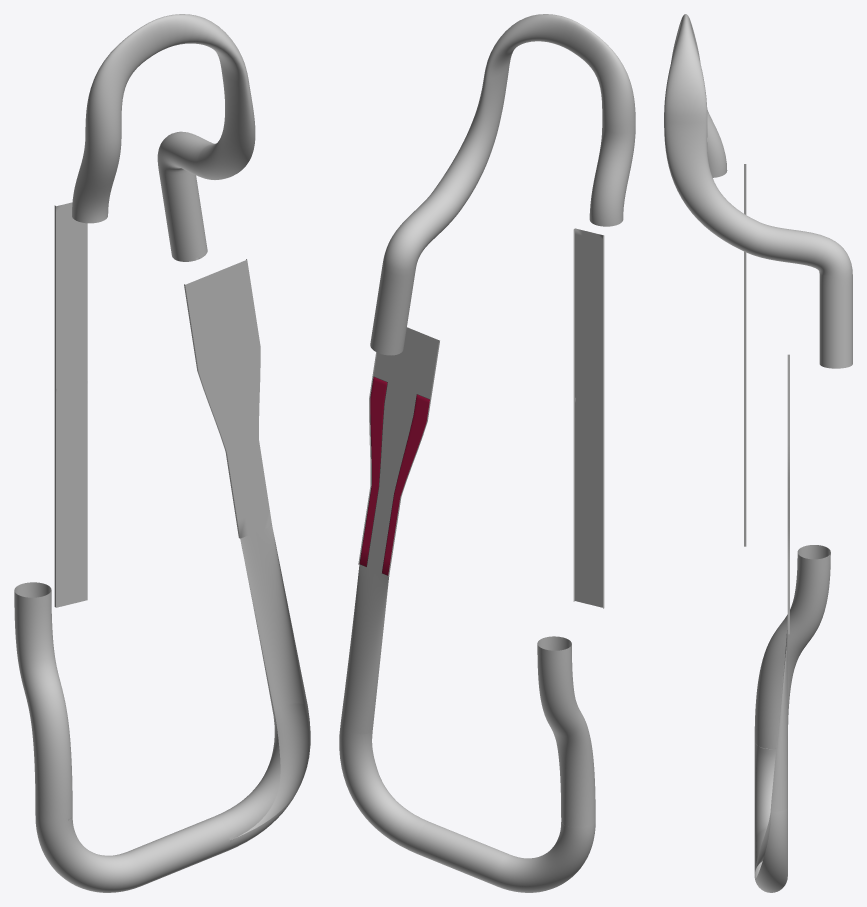
The picture shows the model from 3 angles, left to right: view 1: azimuth 30°, elevation 25°; view 2: azimuth 150°, elevation 25°; view 3: azimuth 270°, elevation 25°; orthographic projection. The views are drawn at different scales.
Parts seen in each view (by area): view 1: MXTRoadSegment.003_PreviewMesh, MXTRoadSegment.006_PreviewMesh, MXTRoadSegment.027_PreviewMesh, MXTRoadSegment.032_PreviewMesh, MXTRoadSegment.009_PreviewMesh, MXTRoadSegment.000_PreviewMesh, MXTRoadSegment.015_PreviewMesh, MXTRoadSegment.022_PreviewMesh, MXTRoadSegment.019_PreviewMesh; view 2: MXTRoadSegment.003_PreviewMesh, MXTRoadSegment.006_PreviewMesh, MXTRoadSegment.027_PreviewMesh, MXTRoadSegment.032_PreviewMesh, MXTRoadSegment.000_PreviewMesh, MXTRoadSegment.009_PreviewMesh, MXTRoadSegment.015_PreviewMesh, MXTRoadSegment.022_PreviewMesh, MXTRoadSegment.019_PreviewMesh; view 3: MXTRoadSegment.003_PreviewMesh, MXTRoadSegment.027_PreviewMesh, MXTRoadSegment.015_PreviewMesh, MXTRoadSegment.009_PreviewMesh, MXTRoadSegment.022_PreviewMesh, MXTRoadSegment.006_PreviewMesh, MXTRoadSegment.032_PreviewMesh, MXTRoadSegment.000_PreviewMesh.
Boxes of the visible parts, box(x1,y1,x2,y2) form: MXTRoadSegment.003_PreviewMesh: box(72, 14, 255, 261); MXTRoadSegment.006_PreviewMesh: box(184, 259, 272, 538); MXTRoadSegment.027_PreviewMesh: box(14, 582, 72, 822); MXTRoadSegment.032_PreviewMesh: box(54, 381, 87, 607); MXTRoadSegment.009_PreviewMesh: box(240, 526, 307, 718); MXTRoadSegment.000_PreviewMesh: box(54, 202, 87, 388); MXTRoadSegment.015_PreviewMesh: box(214, 703, 310, 850); MXTRoadSegment.022_PreviewMesh: box(35, 816, 143, 892); MXTRoadSegment.019_PreviewMesh: box(128, 816, 229, 885); MXTRoadSegment.003_PreviewMesh: box(370, 14, 635, 355); MXTRoadSegment.006_PreviewMesh: box(358, 327, 439, 576); MXTRoadSegment.027_PreviewMesh: box(537, 636, 595, 827); MXTRoadSegment.032_PreviewMesh: box(573, 398, 604, 608); MXTRoadSegment.000_PreviewMesh: box(573, 228, 604, 405); MXTRoadSegment.009_PreviewMesh: box(340, 564, 389, 734); MXTRoadSegment.015_PreviewMesh: box(339, 724, 428, 853); MXTRoadSegment.022_PreviewMesh: box(495, 822, 595, 892); MXTRoadSegment.019_PreviewMesh: box(415, 822, 509, 886); MXTRoadSegment.003_PreviewMesh: box(664, 14, 852, 368); MXTRoadSegment.027_PreviewMesh: box(754, 545, 830, 748); MXTRoadSegment.015_PreviewMesh: box(754, 802, 787, 892); MXTRoadSegment.009_PreviewMesh: box(771, 626, 787, 811); MXTRoadSegment.022_PreviewMesh: box(754, 742, 787, 842); MXTRoadSegment.006_PreviewMesh: box(787, 354, 789, 634); MXTRoadSegment.032_PreviewMesh: box(744, 345, 746, 546); MXTRoadSegment.000_PreviewMesh: box(744, 164, 746, 345).
Bounding box in the file's own units: 778 × 2487 × 511.
